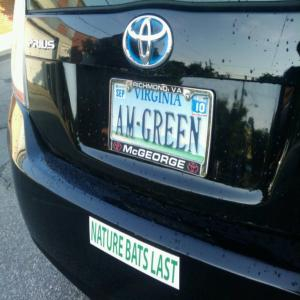Vehicle-registration-plate: (97, 76, 217, 178)
